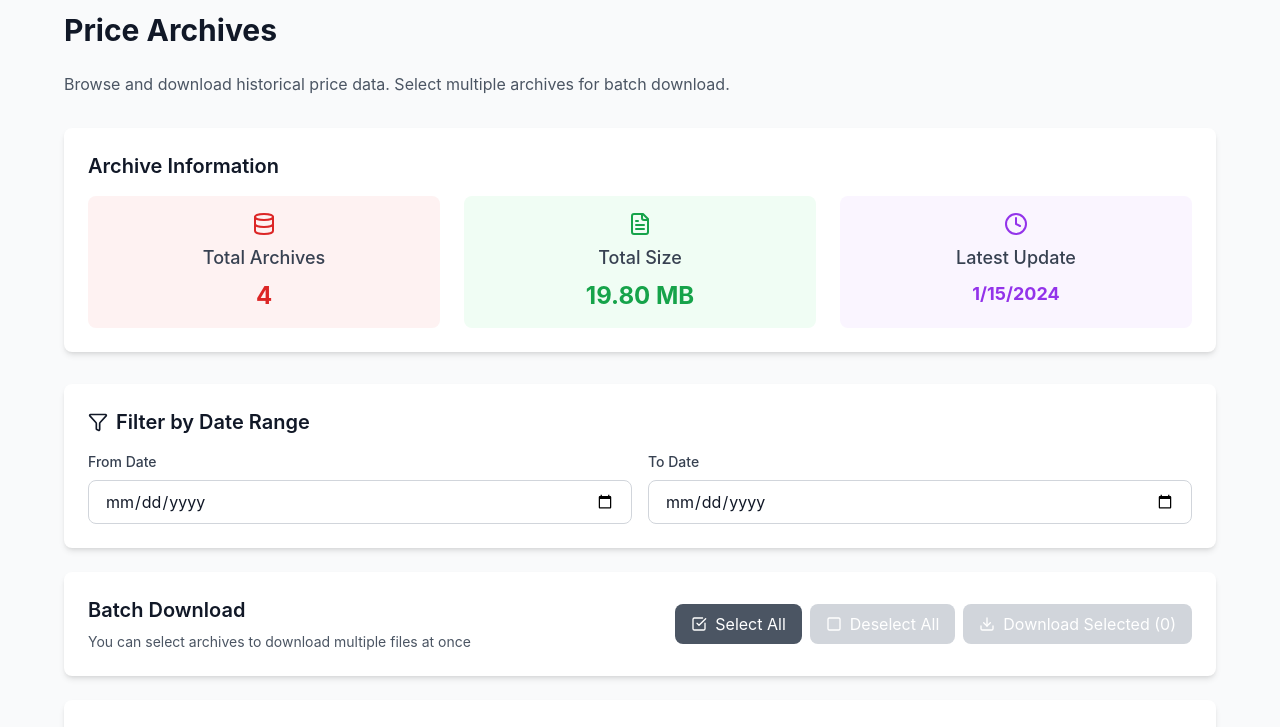
Scenario: ArchivesPage › allows selecting all archives
Expected: the heading "Price Archives" is shown, [64,12,277,48]
Click the button "Select All": (739, 624) [675,604,802,644]
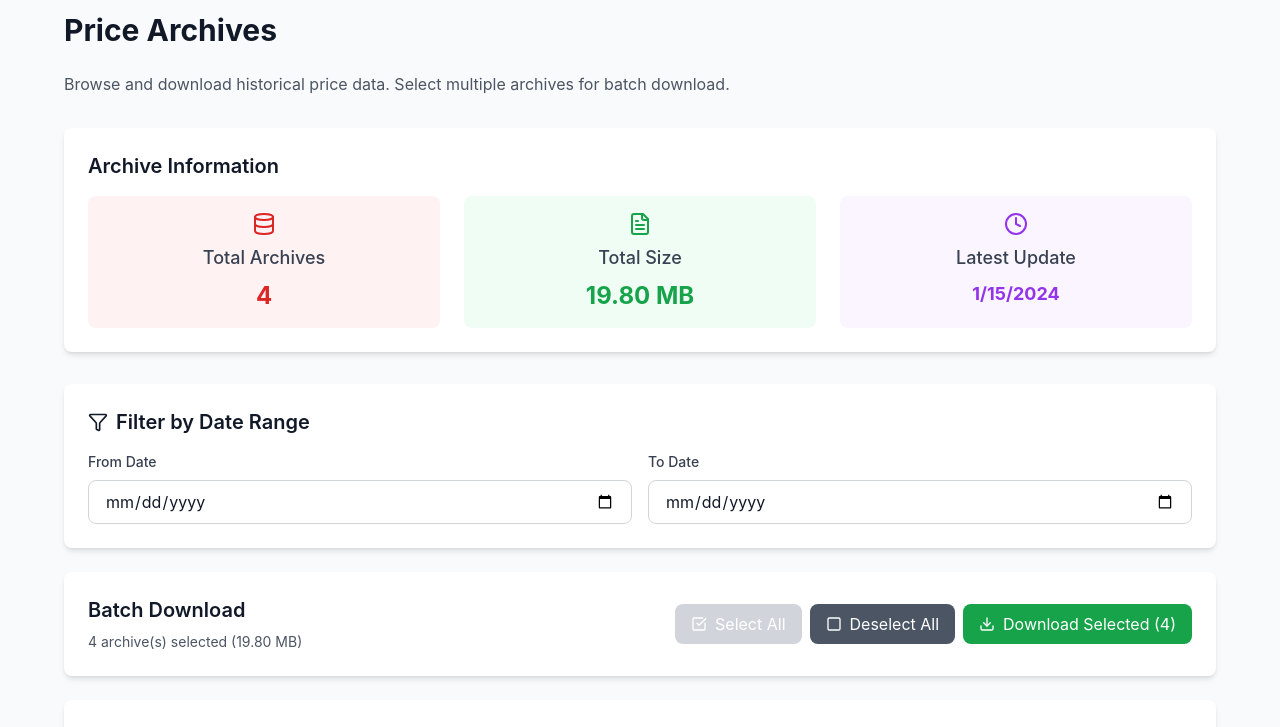
Expected: the button "Download Selected (4)" is shown, [963,604,1192,644]
Expected: the button "Select All" is disabled, [675,604,802,644]
